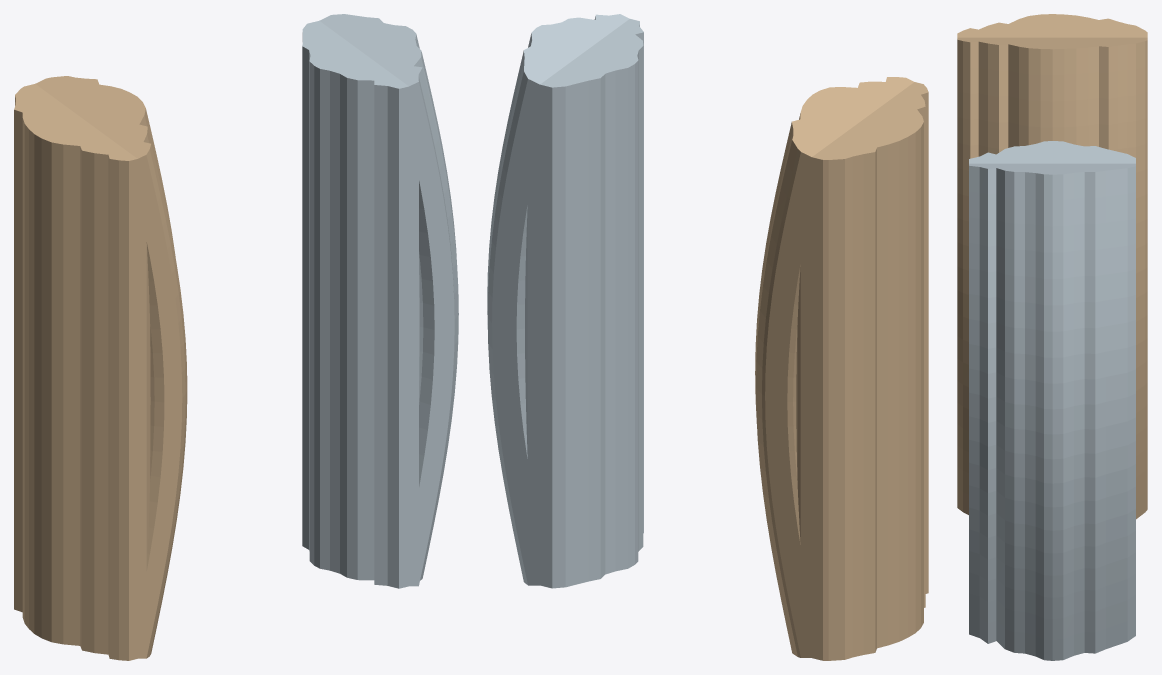
The model's file is R43_INPUT_PROFILE_FAMILIES_4_SOLIDS.glb.
3 renders of one model, left to right at view 1: azimuth 30°, elevation 25°; view 2: azimuth 150°, elevation 25°; view 3: azimuth 270°, elevation 25°, orthographic. The views are drawn at different scales.
Parts seen in each view (by area): view 1: R43_family_1_straight, R43_family_2_straight, R43_family_1_curved, R43_family_2_curved; view 2: R43_family_1_straight, R43_family_2_straight, R43_family_1_curved, R43_family_2_curved; view 3: R43_family_2_curved, R43_family_1_curved, R43_family_1_straight, R43_family_2_straight.
Boxes of the visible parts, x1,y1,x2,y2 form: R43_family_1_straight: (14, 84, 150, 660); R43_family_2_straight: (302, 21, 419, 588); R43_family_1_curved: (35, 76, 187, 658); R43_family_2_curved: (319, 14, 458, 586); R43_family_1_straight: (796, 82, 928, 660); R43_family_2_straight: (525, 19, 643, 588); R43_family_1_curved: (755, 77, 913, 657); R43_family_2_curved: (487, 14, 629, 585); R43_family_2_curved: (969, 163, 1135, 660); R43_family_1_curved: (957, 37, 1147, 519); R43_family_1_straight: (957, 14, 1147, 37); R43_family_2_straight: (969, 141, 1135, 163).
Bounding box in the file's own units: 0.374 × 0.4513 × 0.16.
